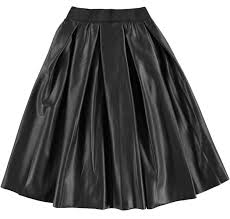S_skirt: (6, 9, 229, 214)
